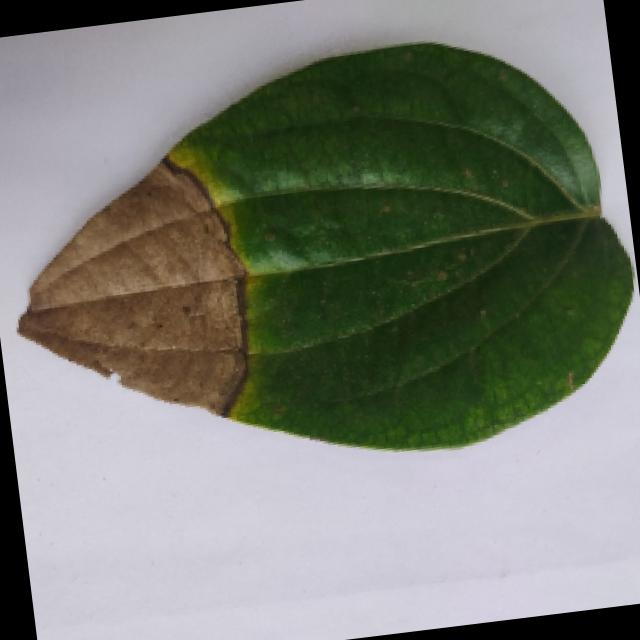footrot: (0, 20, 635, 495)
